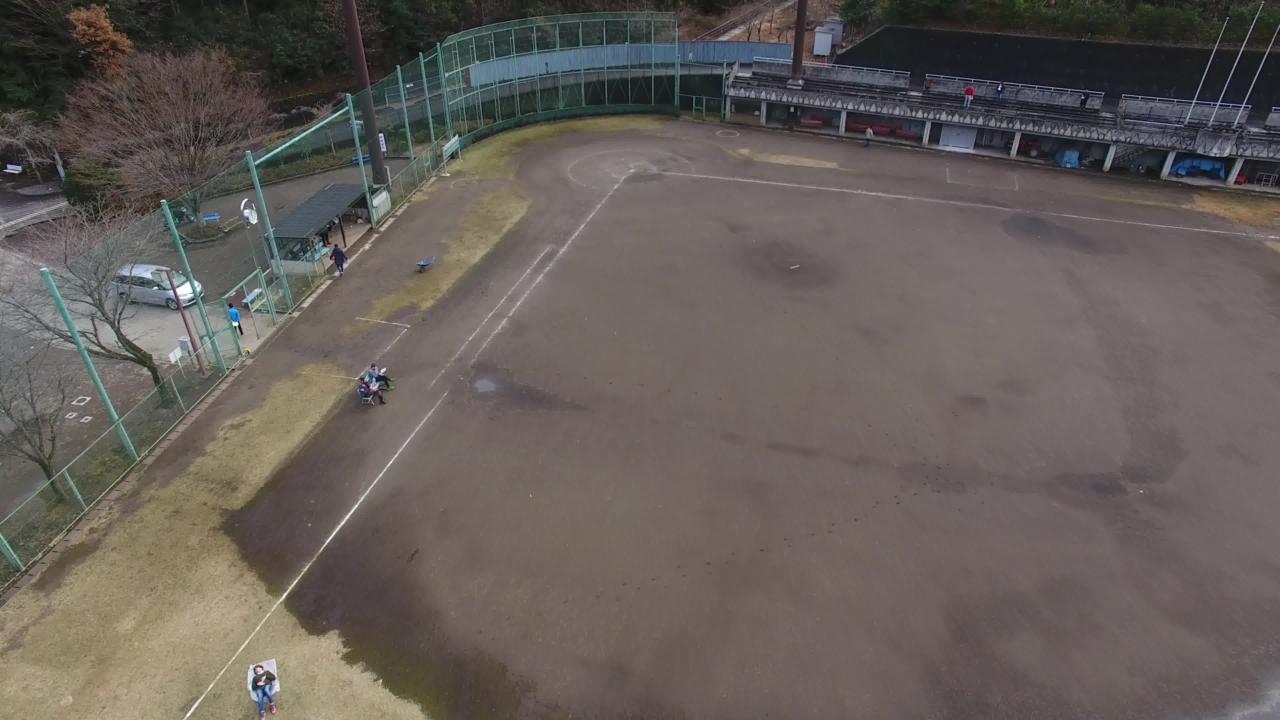car: (100, 255, 210, 318)
person: (232, 655, 289, 720), (323, 236, 356, 279), (219, 298, 252, 340), (352, 373, 383, 412), (364, 360, 396, 393), (955, 76, 979, 116), (991, 78, 1012, 117), (854, 120, 876, 155)
